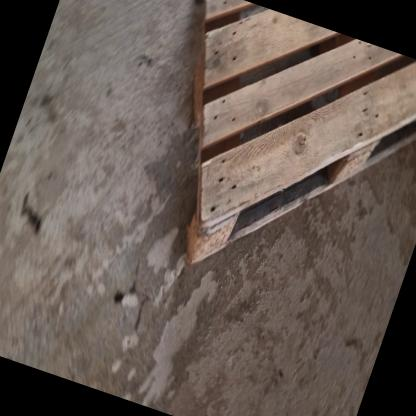BoxFace: (177, 0, 416, 278)
